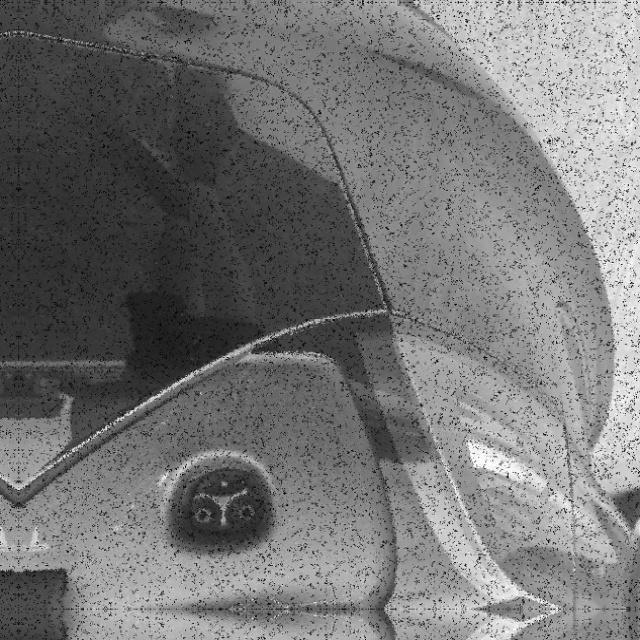Tesla Model-S-: (152, 441, 290, 568)
